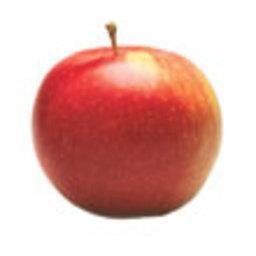apple: (30, 43, 220, 218)
